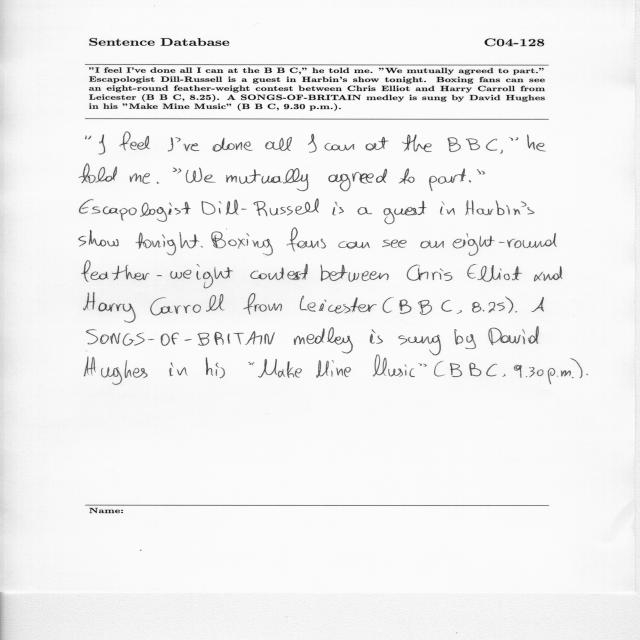word: (82, 261, 233, 289), (86, 329, 275, 346), (79, 199, 191, 222), (453, 233, 557, 256), (201, 199, 319, 216), (226, 168, 309, 191), (84, 357, 148, 385), (211, 229, 273, 256), (84, 292, 136, 323), (150, 294, 225, 315), (294, 327, 353, 353), (135, 232, 200, 255), (300, 296, 377, 314), (329, 169, 388, 191), (320, 265, 389, 282), (466, 201, 535, 216), (383, 201, 427, 224), (467, 264, 522, 282), (488, 327, 539, 346), (287, 228, 326, 252), (250, 264, 308, 280), (373, 355, 415, 377), (548, 359, 583, 385), (398, 335, 441, 356), (429, 169, 466, 192), (399, 299, 452, 315), (258, 359, 302, 378), (243, 293, 282, 314), (407, 264, 453, 281), (448, 137, 498, 152), (79, 164, 117, 183), (472, 297, 513, 314), (79, 230, 119, 247), (450, 363, 497, 377), (316, 360, 351, 378), (119, 132, 150, 151), (212, 138, 253, 151), (402, 135, 432, 152), (186, 167, 216, 183), (454, 329, 476, 349), (534, 266, 563, 281), (206, 358, 225, 379), (514, 365, 544, 378), (265, 137, 292, 151), (175, 138, 200, 152), (527, 135, 546, 152), (366, 137, 389, 150), (169, 363, 188, 377), (339, 241, 371, 249), (325, 143, 355, 151), (399, 169, 414, 184), (382, 239, 407, 248), (130, 173, 150, 184), (440, 201, 455, 215), (531, 297, 544, 312), (370, 329, 383, 344), (420, 241, 444, 249), (383, 297, 394, 313), (308, 134, 317, 153), (332, 202, 344, 216), (434, 361, 445, 376), (98, 135, 105, 155), (358, 207, 372, 215), (168, 138, 173, 152), (173, 168, 182, 174), (509, 137, 519, 141), (477, 169, 485, 174), (418, 363, 427, 367), (86, 136, 91, 140), (457, 310, 462, 314), (249, 362, 255, 365), (500, 150, 503, 154), (503, 374, 506, 377), (157, 182, 159, 184), (469, 180, 471, 182), (515, 311, 517, 313), (201, 246, 203, 247), (586, 374, 588, 375)
